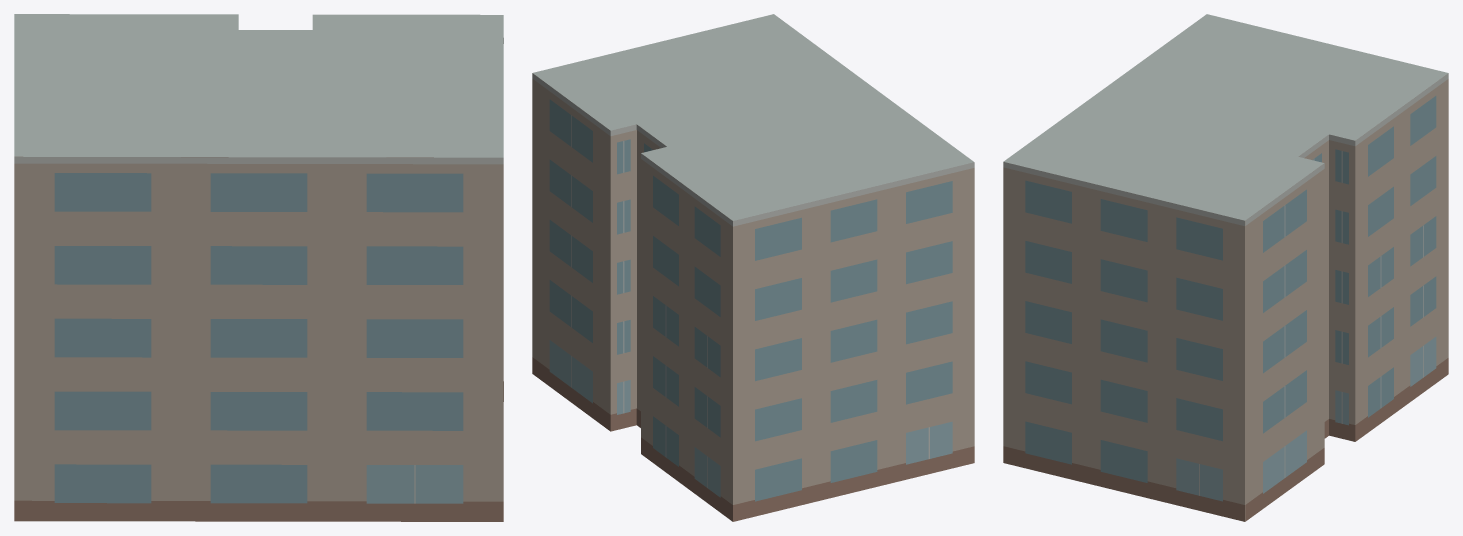
File: survey-upis-32622287.glb
3 renders of one model, left to right at view 1: azimuth 30°, elevation 25°; view 2: azimuth 150°, elevation 25°; view 3: azimuth 270°, elevation 25°, orthographic. The views are drawn at different scales.
Parts seen in each view (by area): view 1: survey-upis-32622287.tmp; view 2: survey-upis-32622287.tmp; view 3: survey-upis-32622287.tmp.
Part boxes in pixels (box(x1,y1,x2,y2)): survey-upis-32622287.tmp: box(14, 14, 503, 521); survey-upis-32622287.tmp: box(532, 14, 974, 521); survey-upis-32622287.tmp: box(1003, 14, 1448, 521).
Bounding box in the file's own units: 19.44 × 13.2 × 17.7.
